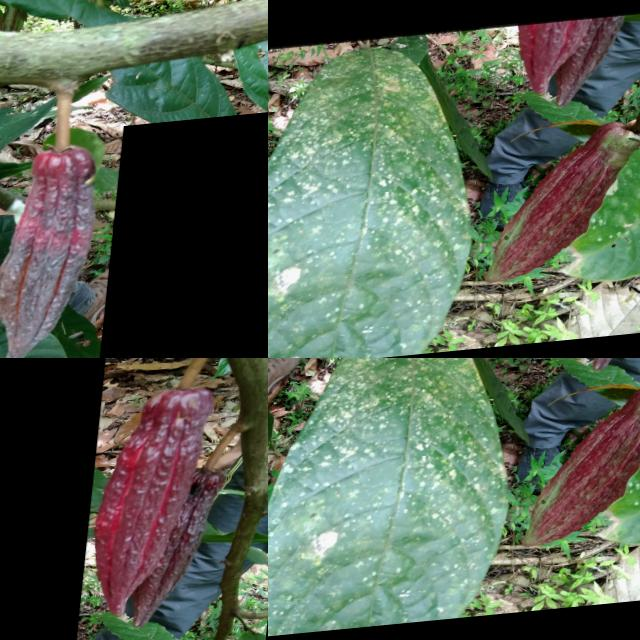Fitoftora: (0, 358, 109, 640)
Monilia: (102, 113, 268, 358)
Sana: (541, 388, 640, 532)
